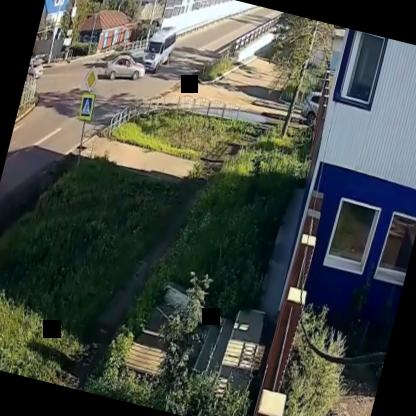accident: (96, 10, 184, 107)
